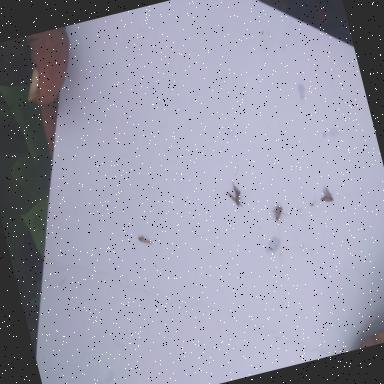pbw: (227, 187, 244, 209), (318, 185, 334, 203), (270, 204, 285, 222), (138, 234, 151, 246)
